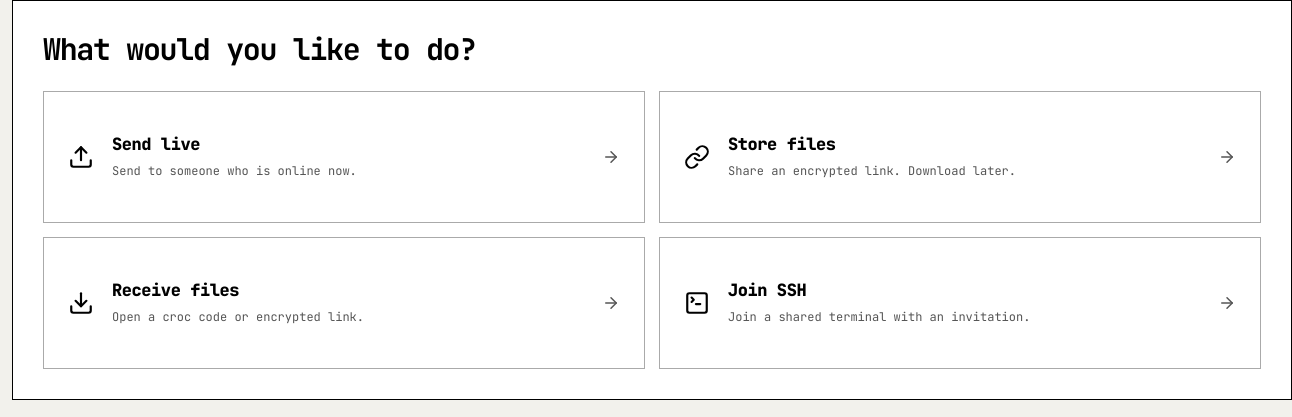
it: task launcher › opens Store files directly and returns to all tasks
This screenshot has width=1292, height=417.
Click the button "Store files": (782, 144) [659,91,1261,223]
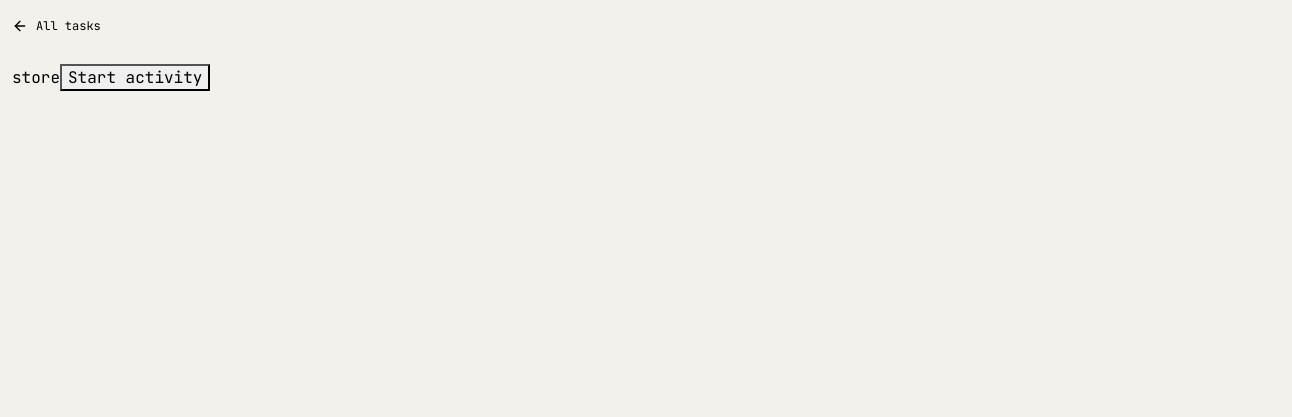
Expected: the text named "Selected task" reads "store", [12,67,60,88]
Click the button "All tasks": (56, 26) [12,4,101,48]
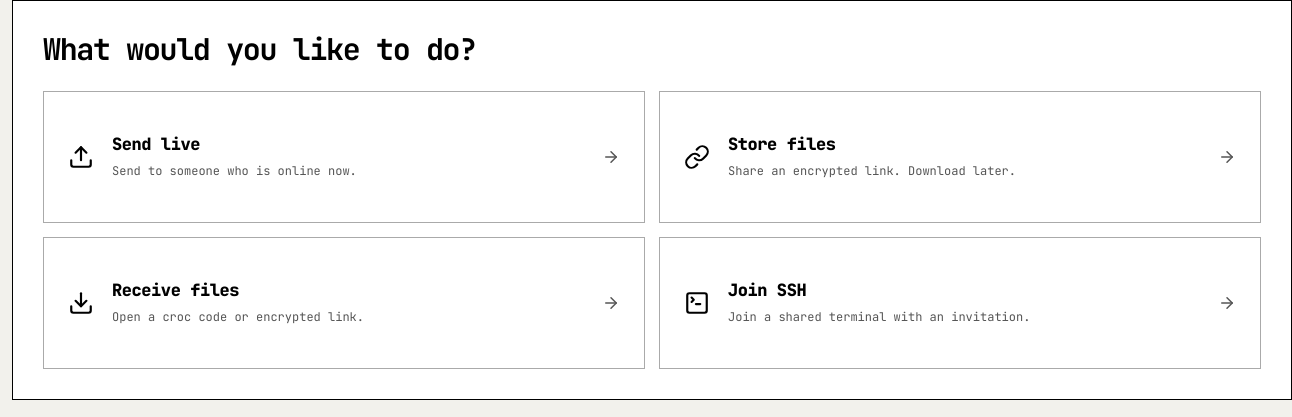
Expected: the heading "What would you like to do?" is shown, [43,29,476,69]
